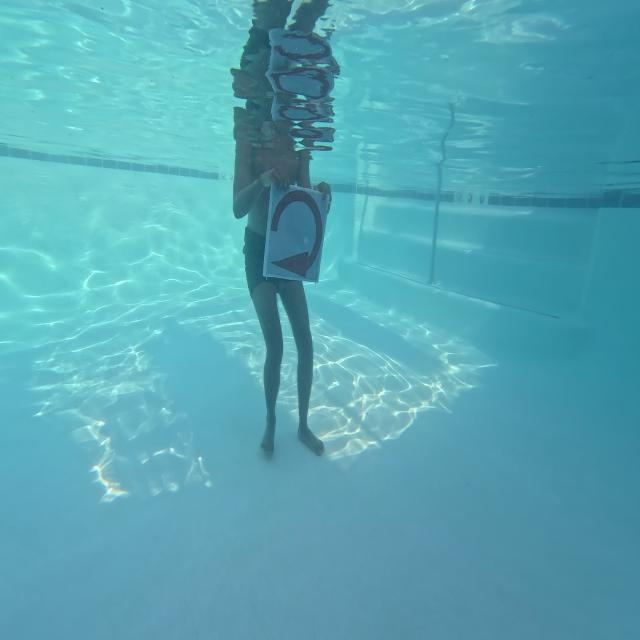red_side: (263, 180, 330, 294)
